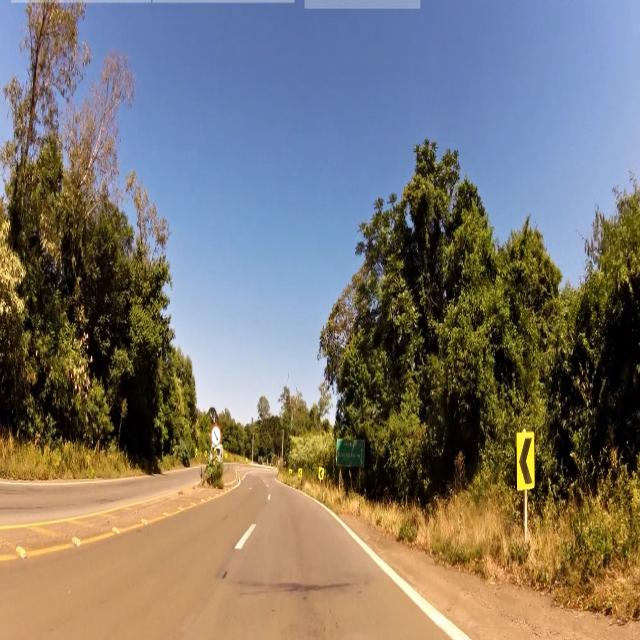Del: (515, 430, 536, 488)
